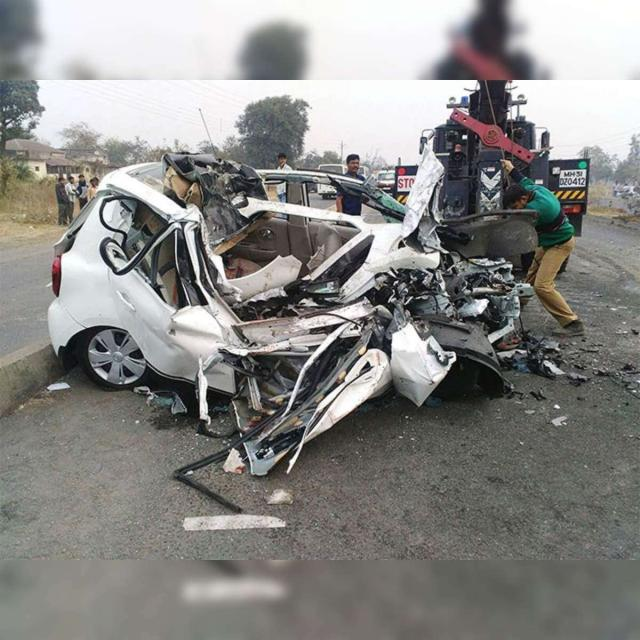accident: (48, 152, 521, 474)
